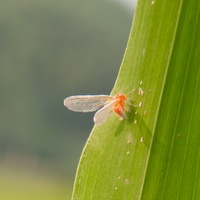insect: (64, 93, 136, 124)
